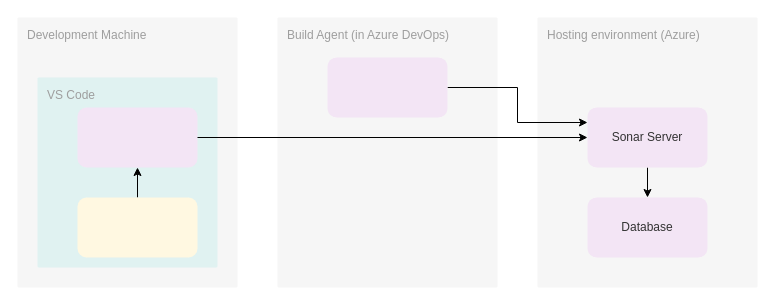
The diagram is 774 pixels wide and 304 high, and some of its shapes have lost their labels. The shapes that lost their labels are listed below. From the top down, each one's box as (x1, y1, x2, y2) in pixels, then its label:
(327, 57, 447, 117): Sonar Scanner
(77, 107, 197, 167): SonarLint (Eclipse, IntelliJ, Visual Studio, VS Code
(77, 197, 197, 257): Source code
